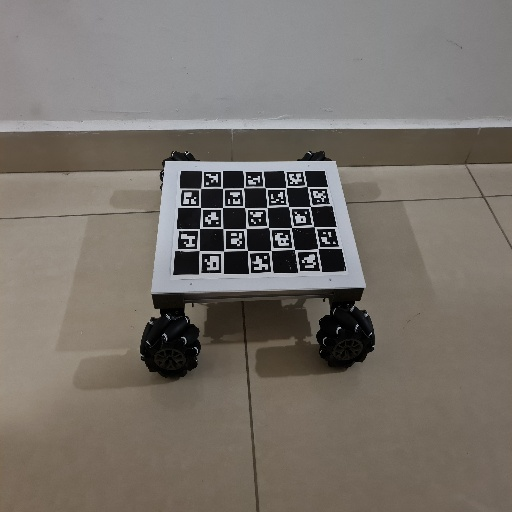Omniwheel: (138, 149, 379, 382)
